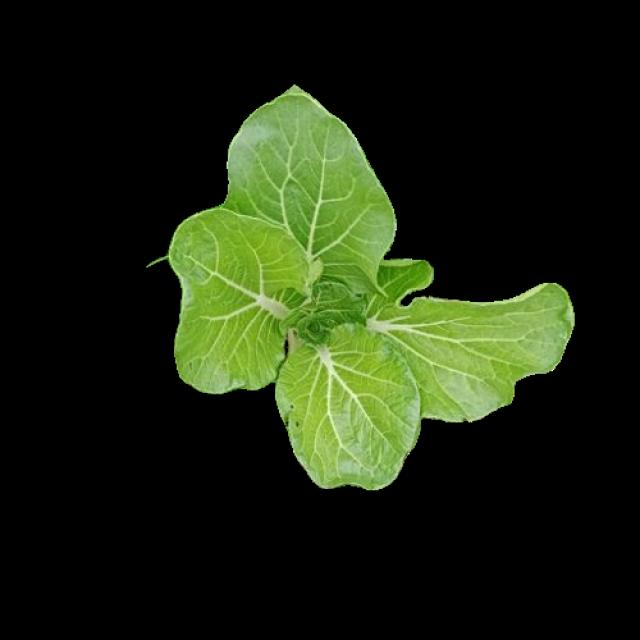mature: (166, 90, 571, 488)
unhealthy: (275, 314, 429, 488)
